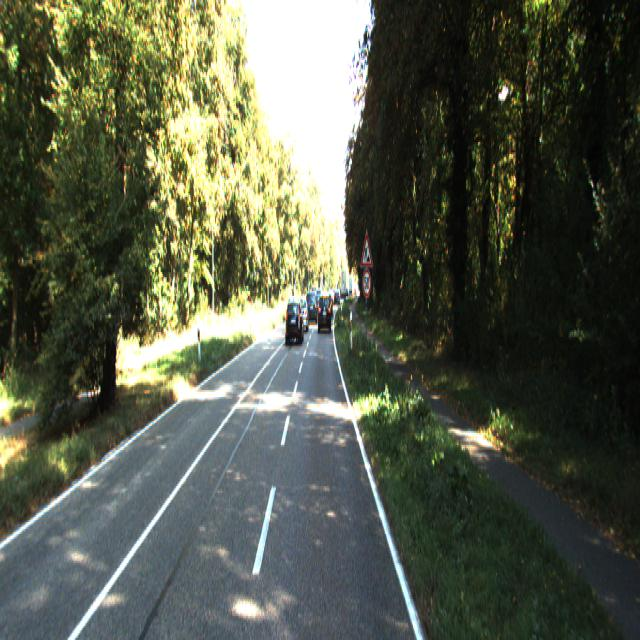Car: (285, 296, 304, 344), (317, 291, 331, 330)
